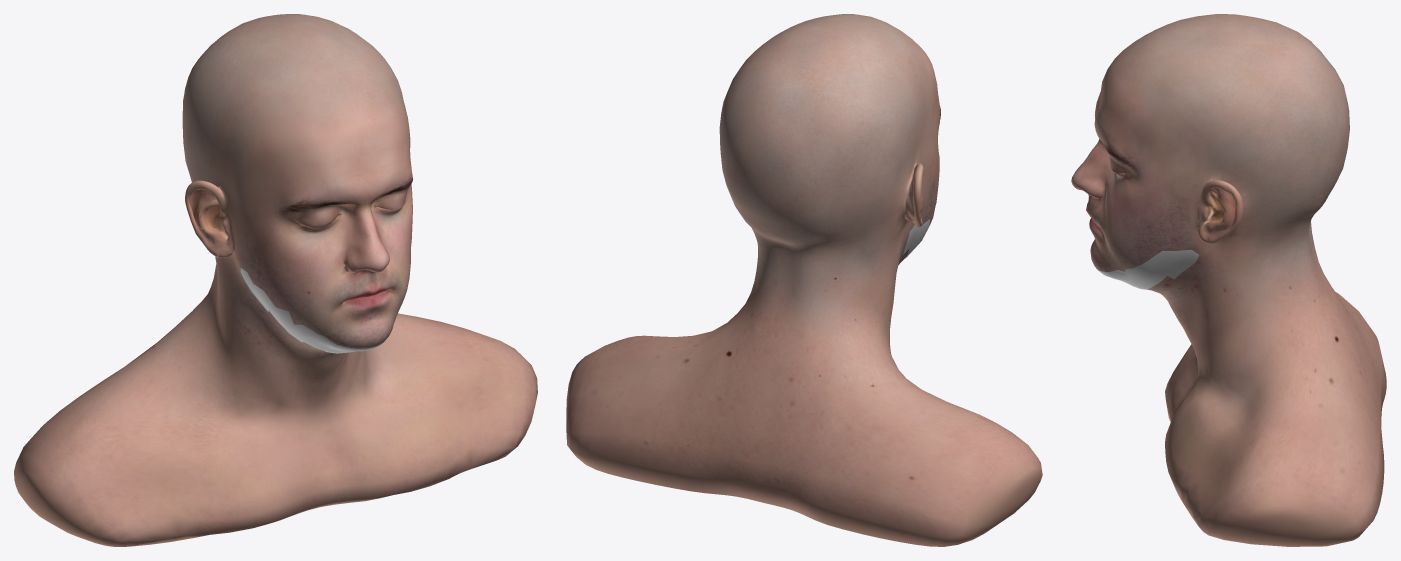
File: Head.glb
The picture shows the model from 3 angles, left to right: view 1: azimuth 30°, elevation 25°; view 2: azimuth 150°, elevation 25°; view 3: azimuth 270°, elevation 25°; orthographic projection. The views are drawn at different scales.
Parts seen in each view (by area): view 1: head, hair_scalp; view 2: head; view 3: head, hair_scalp.
Boxes of the visible parts, box(x1,y1,x2,y2) form: head: box(14, 14, 537, 546); hair_scalp: box(240, 268, 387, 353); head: box(566, 14, 1042, 546); head: box(1071, 14, 1386, 546); hair_scalp: box(1098, 250, 1198, 289).
Bounding box in the file's own units: 4.56 × 4.24 × 2.76.
Materials: 1 (1 with a texture image).
